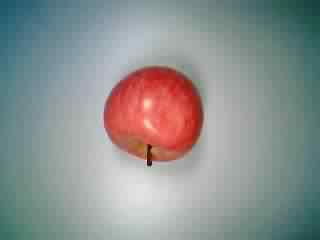apple: (103, 64, 207, 168)
